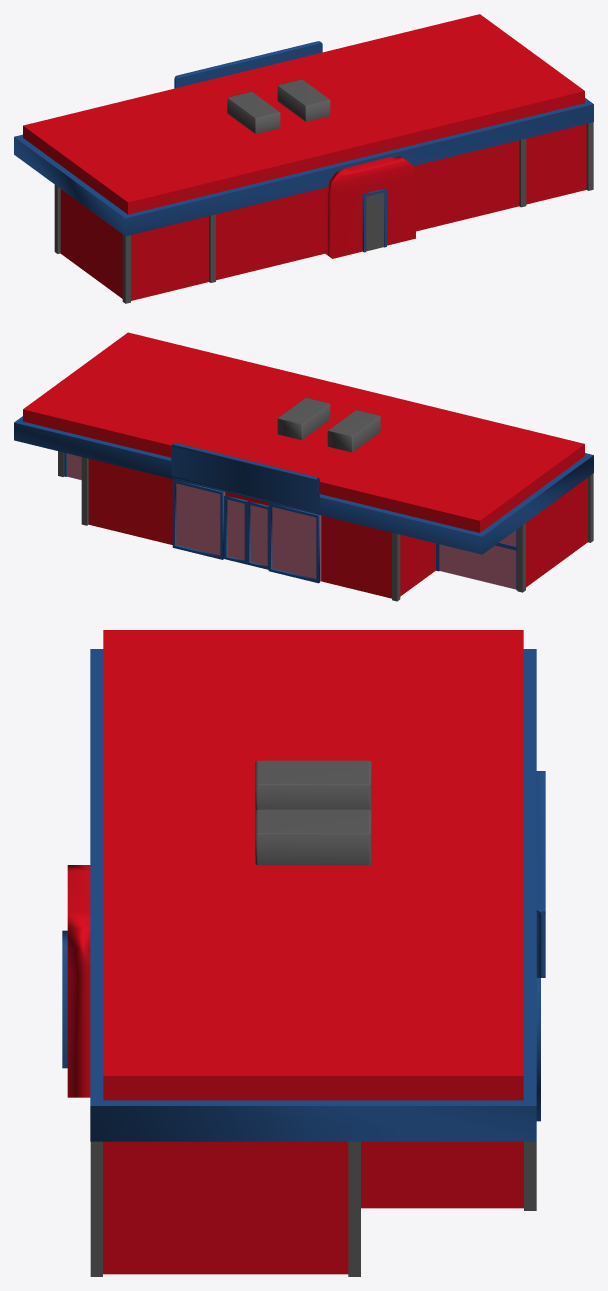
The model's file is Convenience Stores(1).glb.
3 renders of one model, top to bottom at view 1: azimuth 30°, elevation 25°; view 2: azimuth 150°, elevation 25°; view 3: azimuth 270°, elevation 25°, orthographic. The views are drawn at different scales.
Visible parts, largest first — view 1: Root; view 2: Root; view 3: Root.
Part boxes in pixels (x1,y1,x2,y2): Root: [14, 14, 593, 303]; Root: [14, 332, 593, 601]; Root: [62, 630, 545, 1276].
Bounding box in the file's own units: 18.63 × 4.31 × 8.32.
